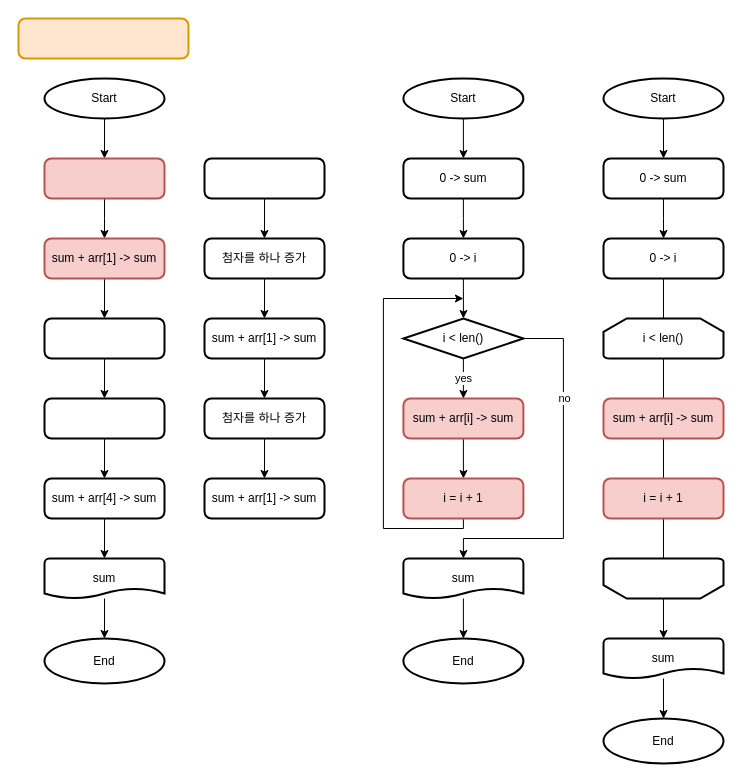
This 741x781 diagram has some shape labels left out. The centre of each missing label's shape, as x and y in pixels:
"arr[0] -> sum" belongs at [104,178].
"sum + arr[0] -> sum" belongs at [264,178].
"sum + arr[2] -> sum" belongs at [104,338].
"sum + arr[3] -> sum" belongs at [104,418].
"합계값을 계산하는 알고리즘" belongs at [103,38].
